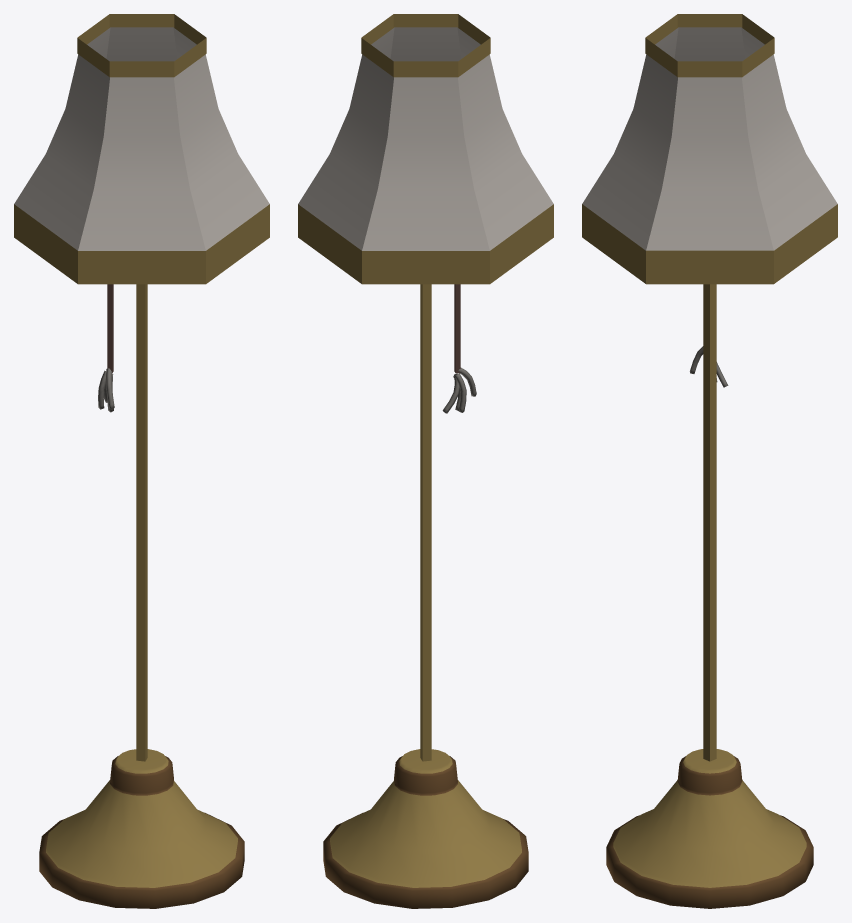
Rendered from lamp_standing1.gltf.
3 views of the same model, side by side, from view 1: azimuth 30°, elevation 25°; view 2: azimuth 150°, elevation 25°; view 3: azimuth 270°, elevation 25° (orthographic).
Visible parts, largest first — view 1: Cylinder.005, Cylinder.004, Cylinder.006, Cube.019, Cube.020, Plane.004; view 2: Cylinder.005, Cylinder.004, Cylinder.006, Cube.019, Plane.004, Cube.020; view 3: Cylinder.005, Cylinder.004, Cylinder.006, Cube.019.
Boxes of the visible parts, <box> form: Cylinder.005: <box>14,14,269,250</box>; Cylinder.004: <box>39,749,244,908</box>; Cylinder.006: <box>14,204,269,284</box>; Cube.019: <box>136,284,147,761</box>; Cube.020: <box>107,284,113,373</box>; Plane.004: <box>98,368,114,412</box>; Cylinder.005: <box>298,14,553,250</box>; Cylinder.004: <box>323,749,528,908</box>; Cylinder.006: <box>298,204,553,284</box>; Cube.019: <box>420,284,431,761</box>; Plane.004: <box>442,367,476,413</box>; Cube.020: <box>454,284,460,373</box>; Cylinder.005: <box>582,14,837,250</box>; Cylinder.004: <box>606,749,813,908</box>; Cylinder.006: <box>582,204,837,284</box>; Cube.019: <box>703,284,716,761</box>.
Size of the model in its own units: 0.438 by 1.81 by 0.5058.
